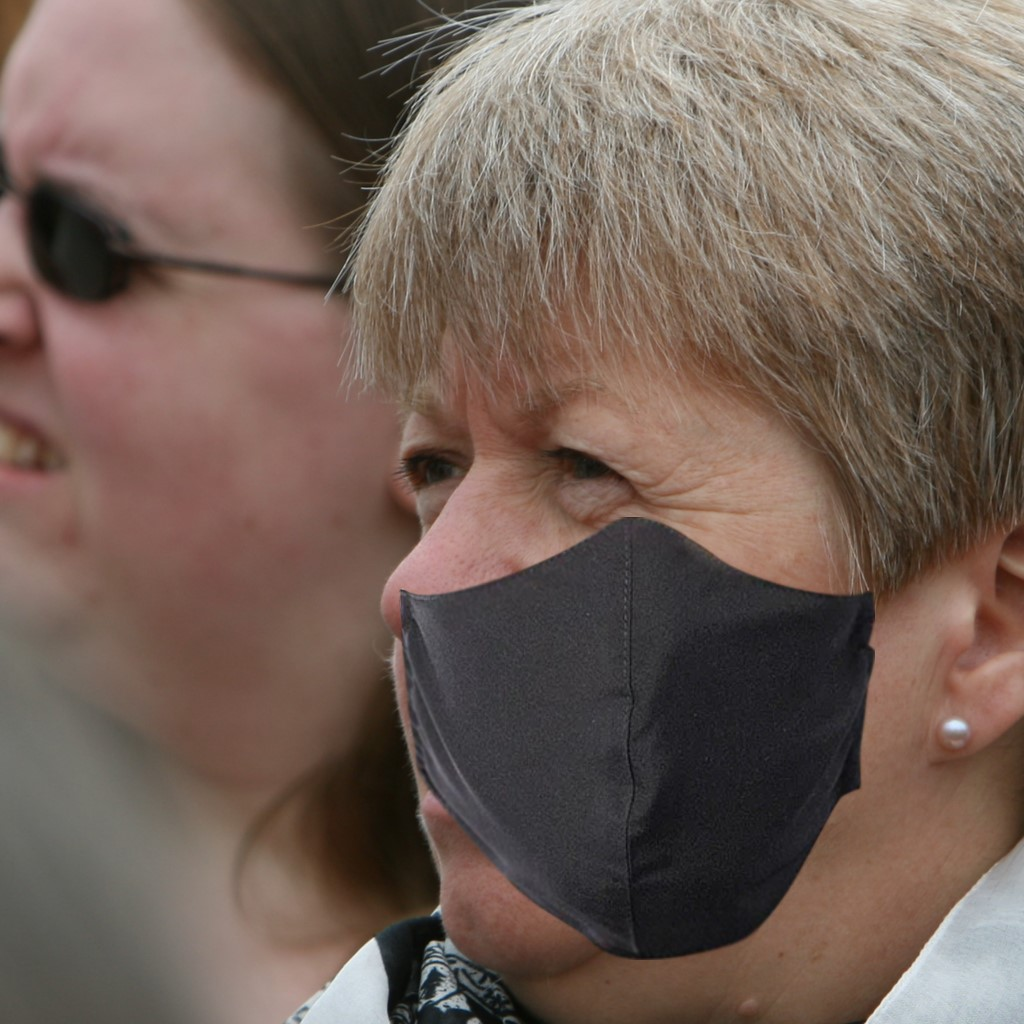con_mascara: (378, 200, 891, 979)
